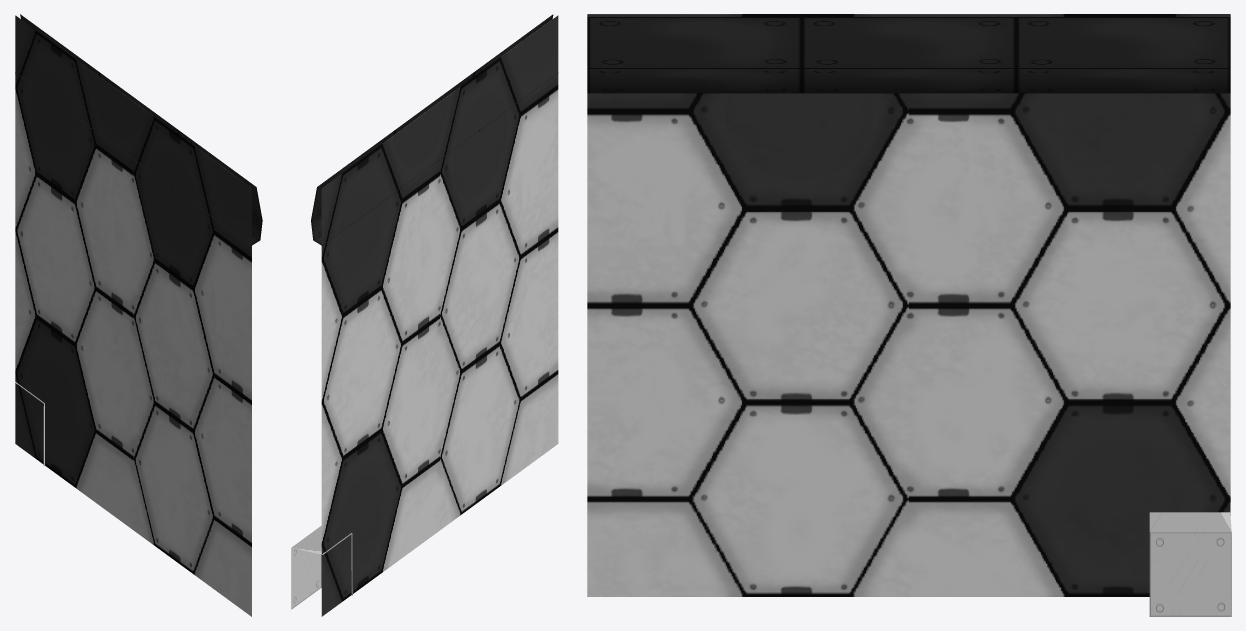
File: Wall_TopBottomRCorner.fbx
The picture shows the model from 3 angles, left to right: view 1: azimuth 30°, elevation 25°; view 2: azimuth 150°, elevation 25°; view 3: azimuth 270°, elevation 25°; orthographic projection. The views are drawn at different scales.
Visible parts, largest first — view 1: pPlane138; view 2: pPlane138; view 3: pPlane138.
Boxes of the visible parts, left/top/right/bottom form: pPlane138: left=15, top=14, right=262, bottom=616; pPlane138: left=291, top=14, right=558, bottom=616; pPlane138: left=587, top=14, right=1231, bottom=616.
Bounding box in the file's own units: 0.1534 × 2 × 2.
